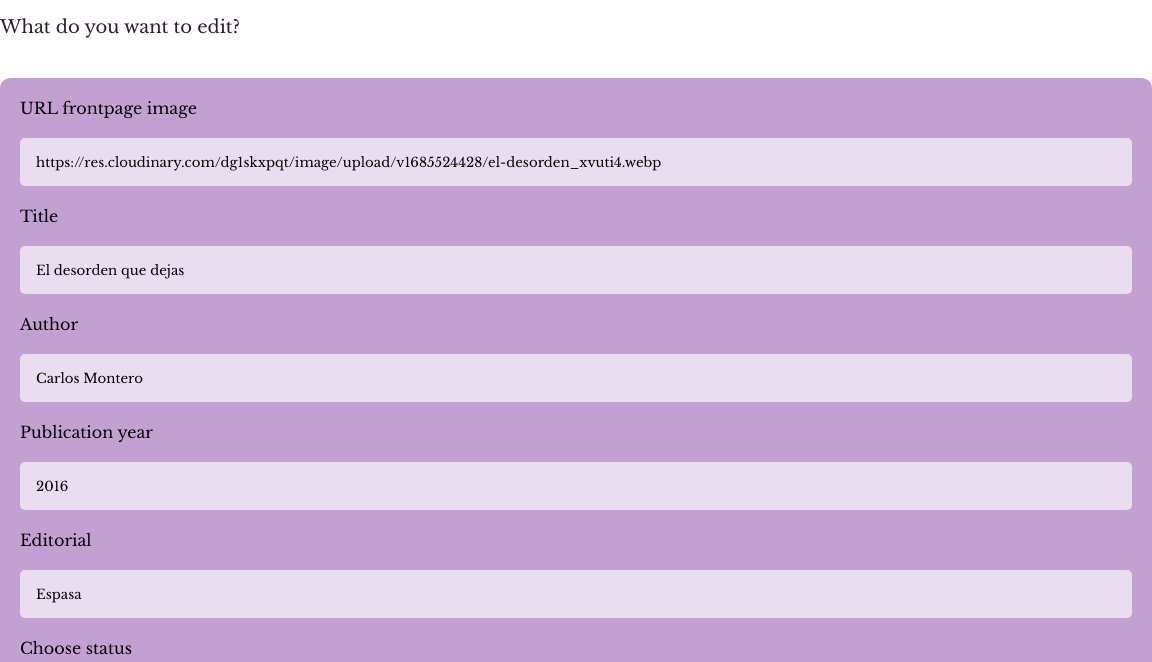
Test: Given an UpdateBookPage › When the user modifies the title of a book and clicks on Modify button › Then it should navigate to home and show the heading with the text 'What is in your shelf?'
Type "añskdfsdlkfgnsfdg" into the field labelled "Title" at (576, 270), box [20, 246, 1132, 294]
(page scrolled)
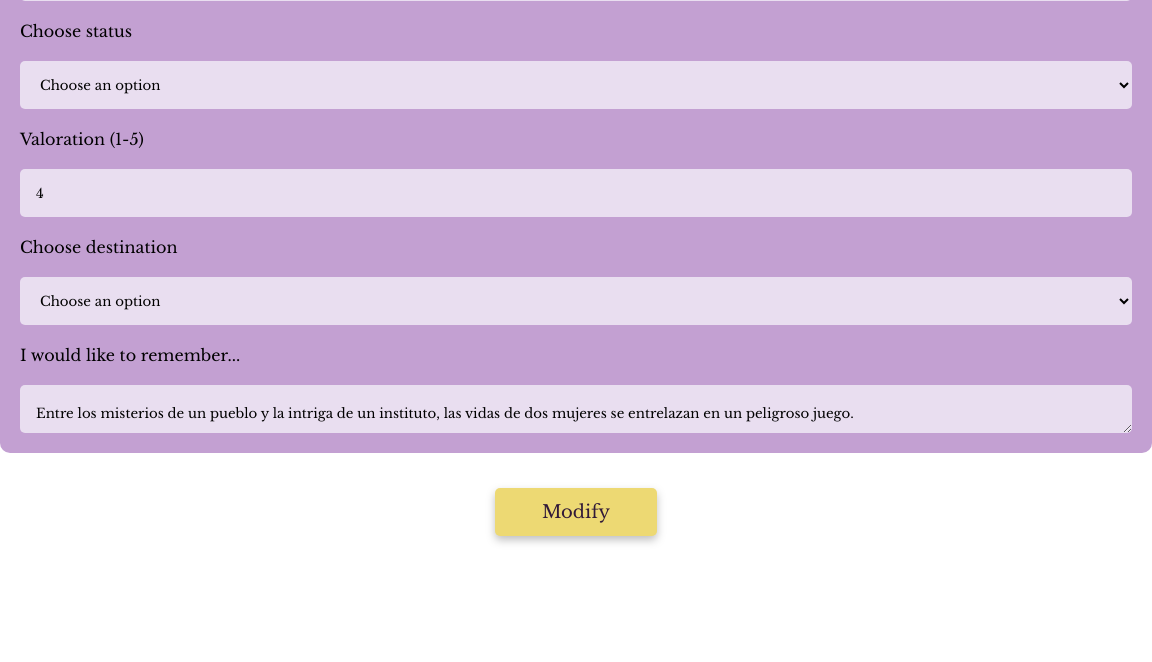
Click the button "Modify" at (576, 512), box [495, 488, 657, 536]
(page scrolled)
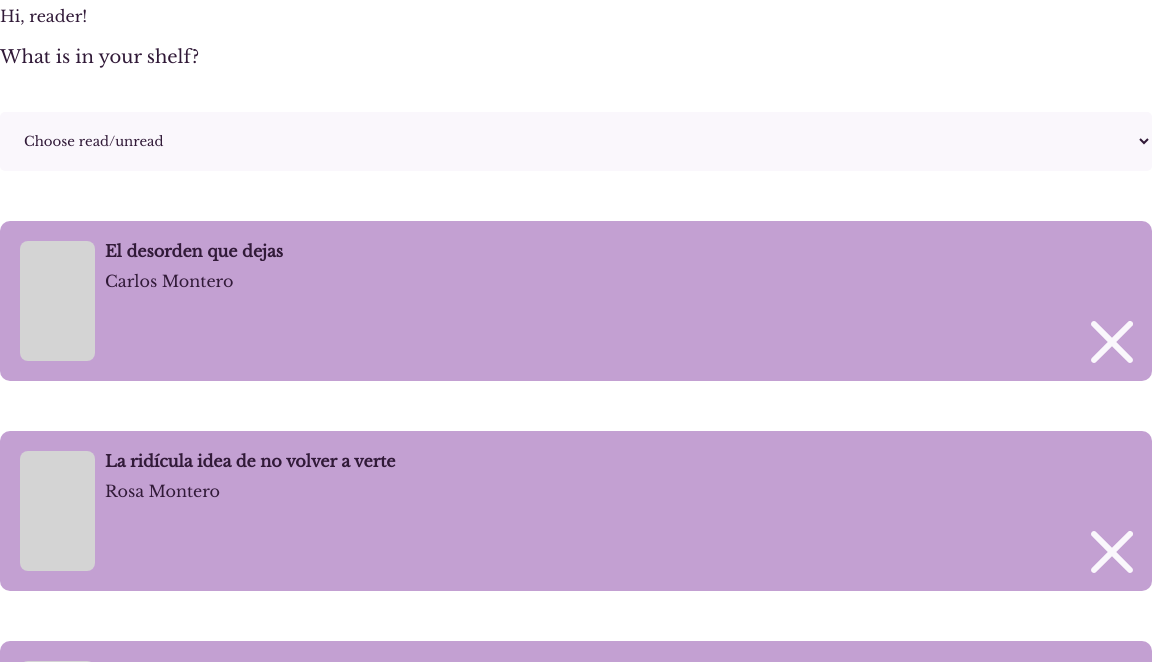
Expected: the heading "What is in your shelf?" is shown, [0, 46, 199, 68]
